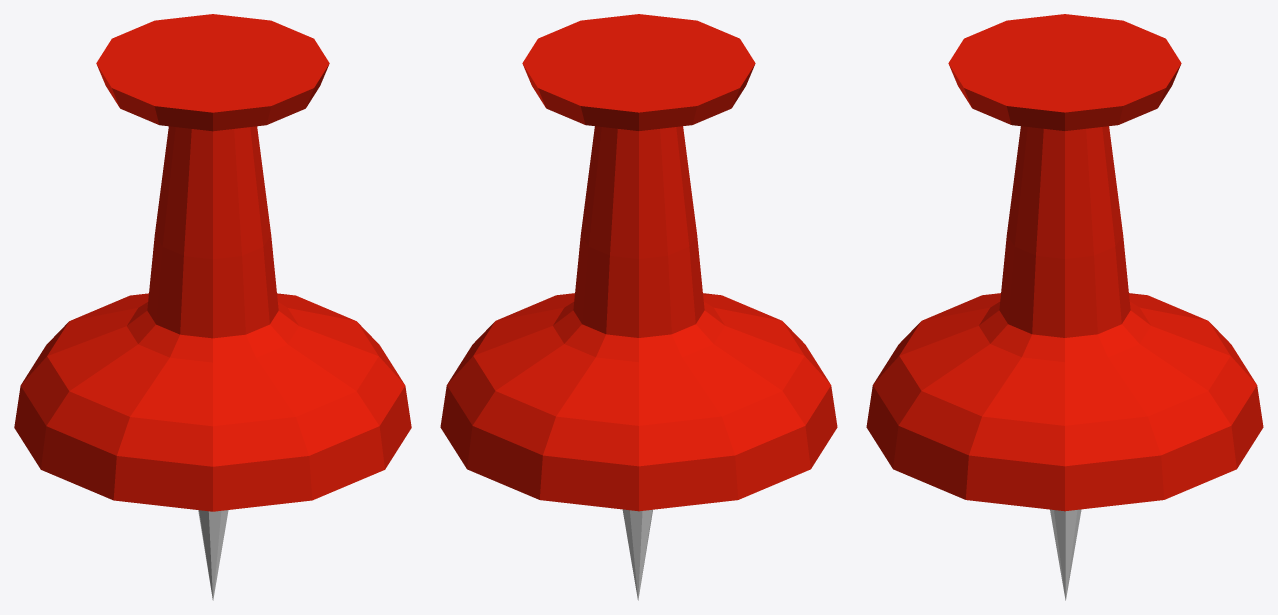
Rendered from pin.glb.
The picture shows the model from 3 angles, left to right: view 1: azimuth 30°, elevation 25°; view 2: azimuth 150°, elevation 25°; view 3: azimuth 270°, elevation 25°; orthographic projection.
Parts seen in each view (by area): view 1: Circle, Cylinder; view 2: Circle, Cylinder; view 3: Circle, Cylinder.
Part boxes in pixels (x1,y1,x2,y2): Circle: (14, 14, 411, 511); Cylinder: (198, 510, 228, 600); Circle: (440, 14, 837, 511); Cylinder: (622, 509, 652, 600); Circle: (866, 14, 1263, 511); Cylinder: (1050, 509, 1081, 600).
Bounding box in the file's own units: 0.0198 × 0.0295 × 0.0198.
